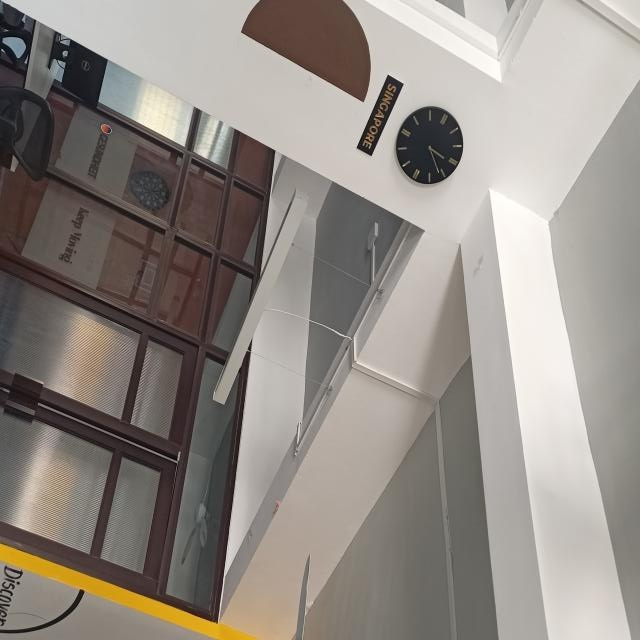fluorescent tube: (209, 188, 315, 413)
